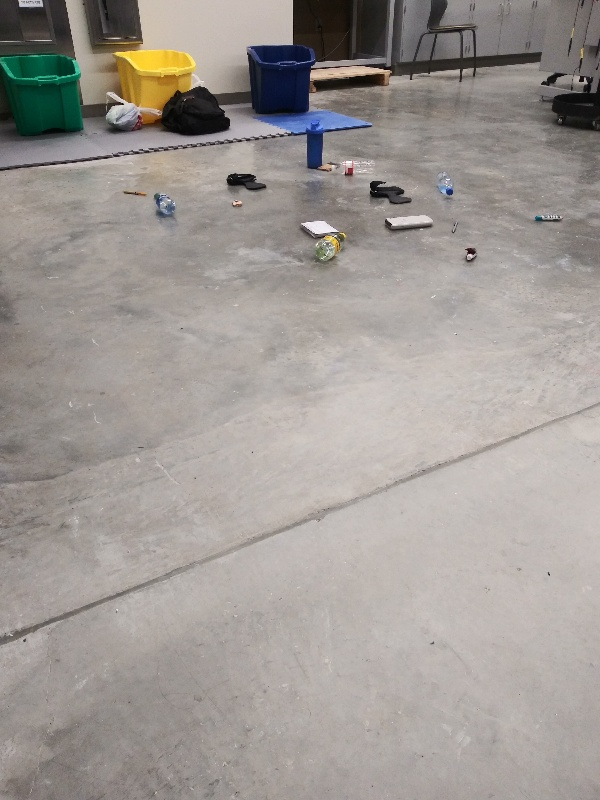bottle: (310, 226, 352, 268), (328, 154, 379, 178), (151, 189, 182, 218), (433, 168, 458, 198)
